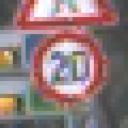speed_limit_20: (28, 30, 113, 108)
